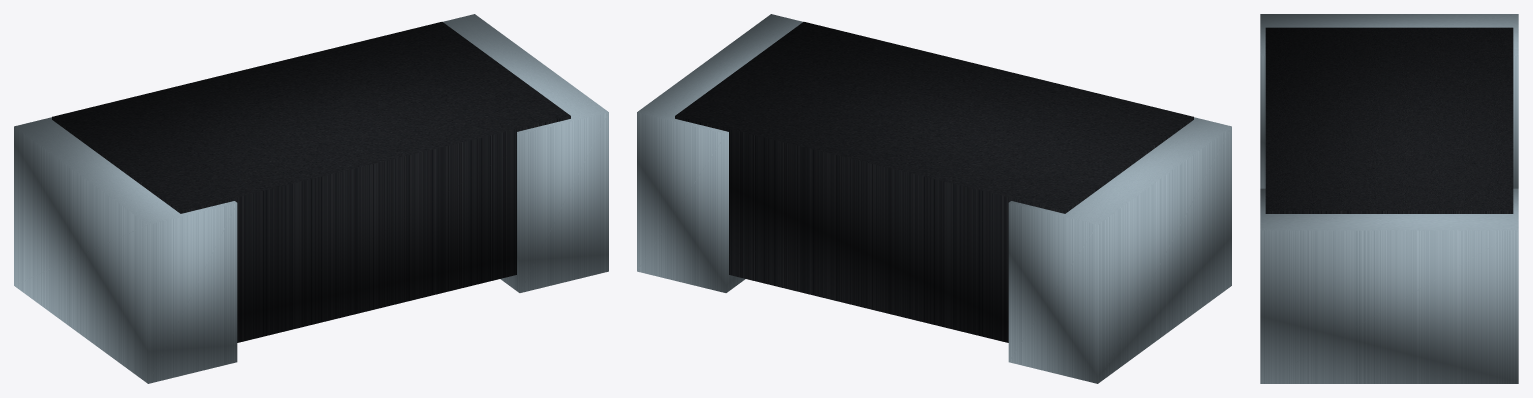
The picture shows the model from 3 angles, left to right: view 1: azimuth 30°, elevation 25°; view 2: azimuth 150°, elevation 25°; view 3: azimuth 270°, elevation 25°; orthographic projection. The views are drawn at different scales.
Parts seen in each view (by area): view 1: Resistor_Epoxy_0603_0__PSMAT__IC_Epoxy, Terminal_1__PSMAT__Tin_Leads, Terminal_2__PSMAT__Tin_Leads; view 2: Resistor_Epoxy_0603_0__PSMAT__IC_Epoxy, Terminal_1__PSMAT__Tin_Leads, Terminal_2__PSMAT__Tin_Leads; view 3: Resistor_Epoxy_0603_0__PSMAT__IC_Epoxy, Terminal_2__PSMAT__Tin_Leads, Terminal_1__PSMAT__Tin_Leads.
Part boxes in pixels (bbox=[...]): Resistor_Epoxy_0603_0__PSMAT__IC_Epoxy: bbox=[52, 22, 570, 342]; Terminal_1__PSMAT__Tin_Leads: bbox=[14, 117, 237, 383]; Terminal_2__PSMAT__Tin_Leads: bbox=[443, 14, 608, 292]; Resistor_Epoxy_0603_0__PSMAT__IC_Epoxy: bbox=[675, 22, 1193, 342]; Terminal_1__PSMAT__Tin_Leads: bbox=[1008, 117, 1231, 383]; Terminal_2__PSMAT__Tin_Leads: bbox=[637, 14, 802, 292]; Resistor_Epoxy_0603_0__PSMAT__IC_Epoxy: bbox=[1265, 27, 1513, 213]; Terminal_2__PSMAT__Tin_Leads: bbox=[1260, 188, 1518, 383]; Terminal_1__PSMAT__Tin_Leads: bbox=[1260, 14, 1518, 188].
Size of the model in its own units: 0.00248 by 0.000835 by 0.00125.
2 materials, 2 textured.
